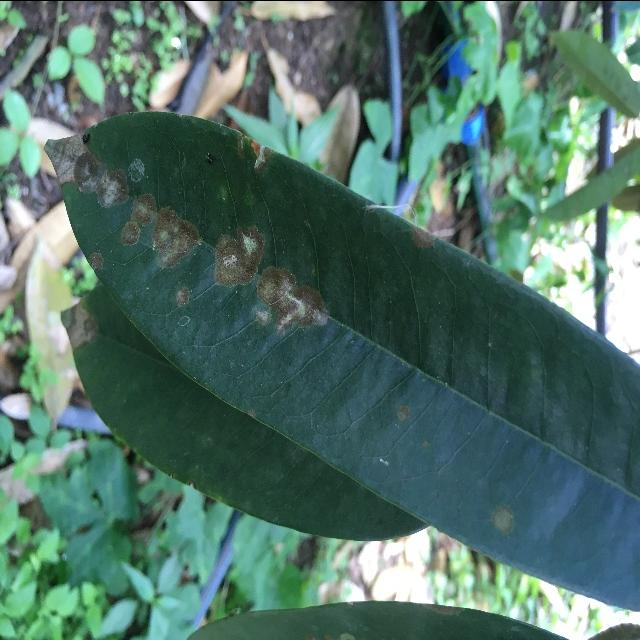Algal Leaf Spot: (38, 98, 640, 613)
